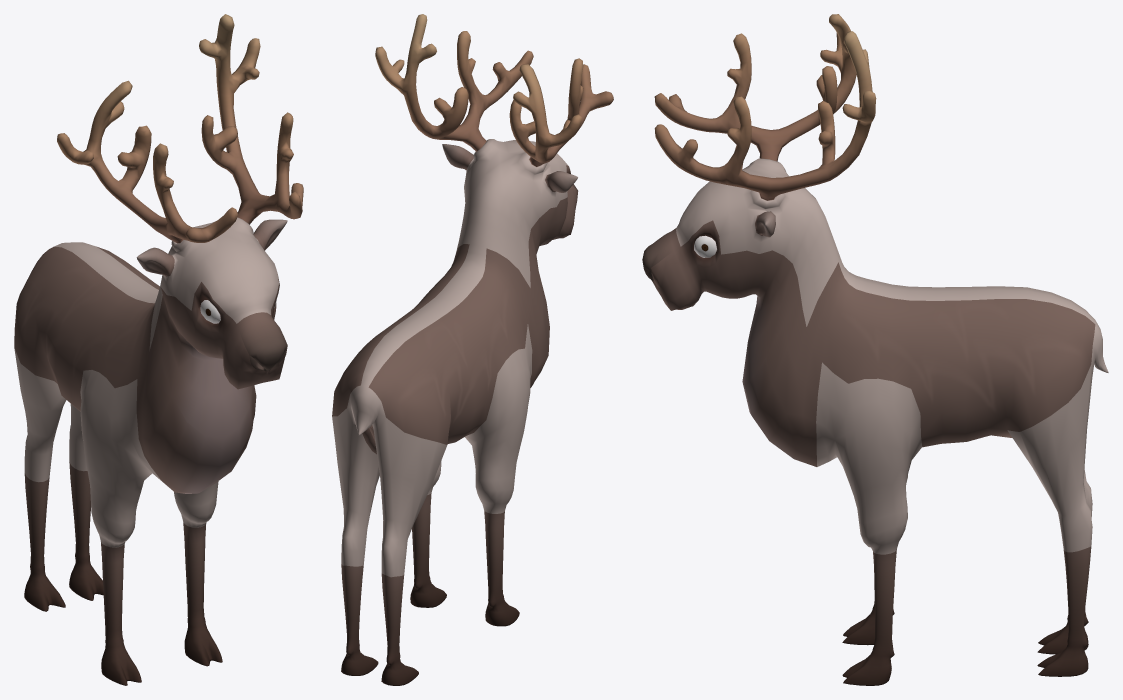
The model's file is deer.gltf.
The picture shows the model from 3 angles, left to right: view 1: azimuth 30°, elevation 25°; view 2: azimuth 150°, elevation 25°; view 3: azimuth 270°, elevation 25°; orthographic projection. The views are drawn at different scales.
Parts seen in each view (by area): view 1: deer; view 2: deer; view 3: deer.
Part boxes in pixels (x1,y1,x2,y2): deer: (14,14,303,685); deer: (332,14,613,685); deer: (642,14,1108,685).
Size of the model in its own units: 12 by 34.38 by 22.14.
Materials: 9 (8 with a texture image).
